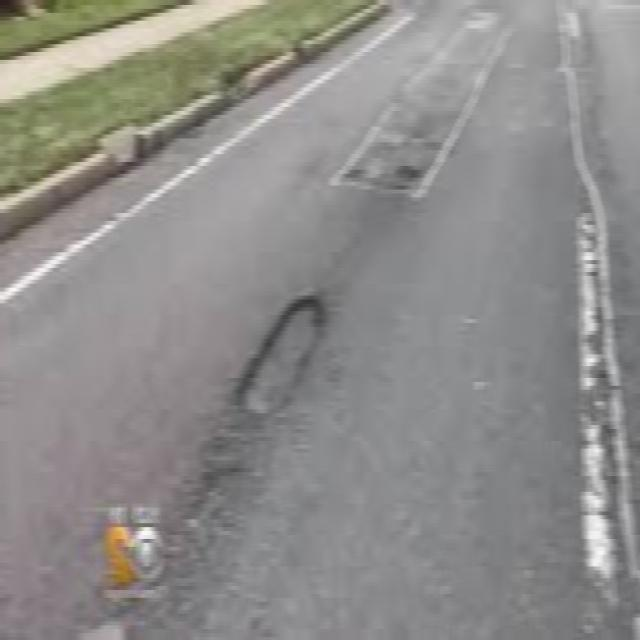Pothole: (226, 282, 332, 431), (338, 113, 431, 208)
